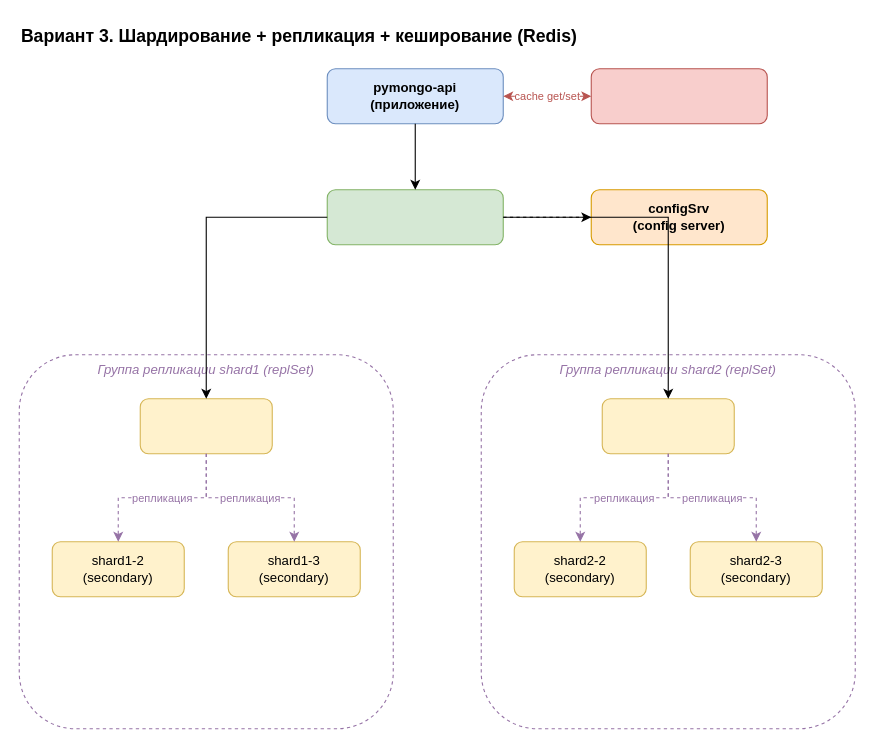
This 875x748 diagram has some shape labels left out. Each missing label, with the centre of its shape:
"mongos (роутер)" belongs at point 414,217.
"redis (кеш)" belongs at point 678,96.
"shard1-1 (PRIMARY)" belongs at point 205,426.
"shard2-1 (PRIMARY)" belongs at point 667,426.
